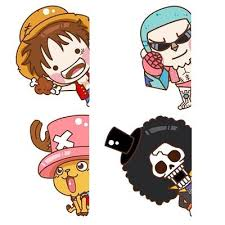chopper: (30, 114, 89, 197)
luffy: (14, 5, 90, 89)
